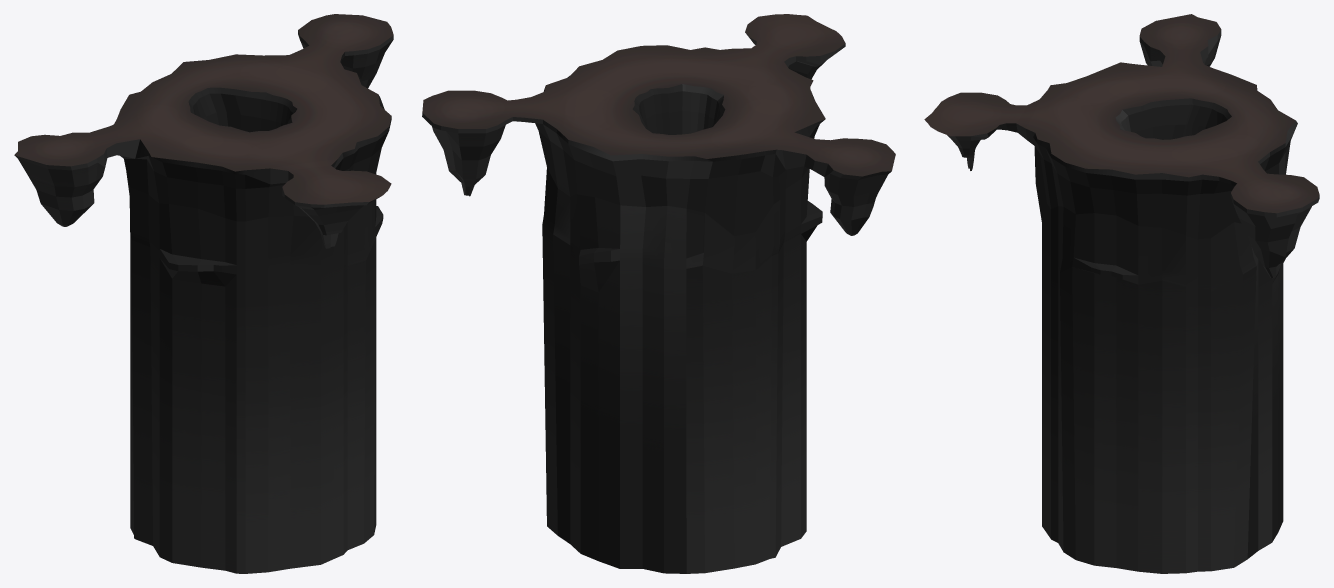
File: terrain.fbx
3 views of the same model, side by side, from view 1: azimuth 30°, elevation 25°; view 2: azimuth 150°, elevation 25°; view 3: azimuth 270°, elevation 25° (orthographic). The views are drawn at different scales.
Parts seen in each view (by area): view 1: pPipe1; view 2: pPipe1; view 3: pPipe1.
Part boxes in pixels (box(x1,y1,x2,y2)): pPipe1: box(14, 14, 393, 573); pPipe1: box(422, 14, 895, 573); pPipe1: box(924, 14, 1319, 573).
Size of the model in its own units: 48.18 by 45.34 by 40.38.
